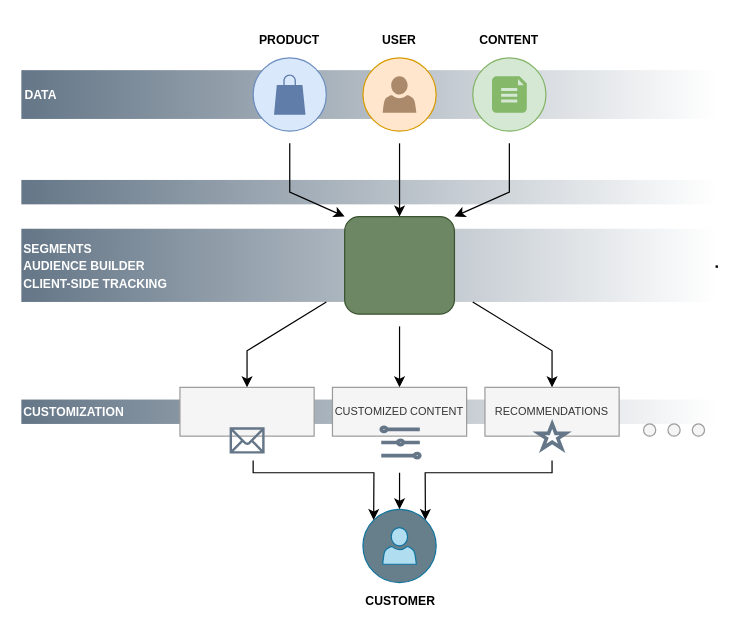
Image size: 739x639. Some labels were removed from this diagram. Each missing label, with the centre of its shape:
EXPORT: the point at 368,191
NEWSLETTER: the point at 246,411
Raptor CDP: the point at 398,264
